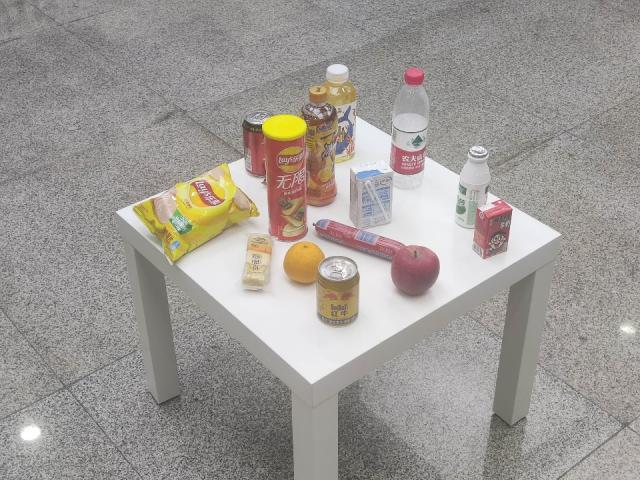Canned_drinks: (318, 251, 360, 326), (240, 106, 274, 178)
bottle: (382, 63, 434, 193)
cylinder: (261, 112, 312, 241)
drink_box: (345, 159, 400, 231), (467, 197, 514, 260)
